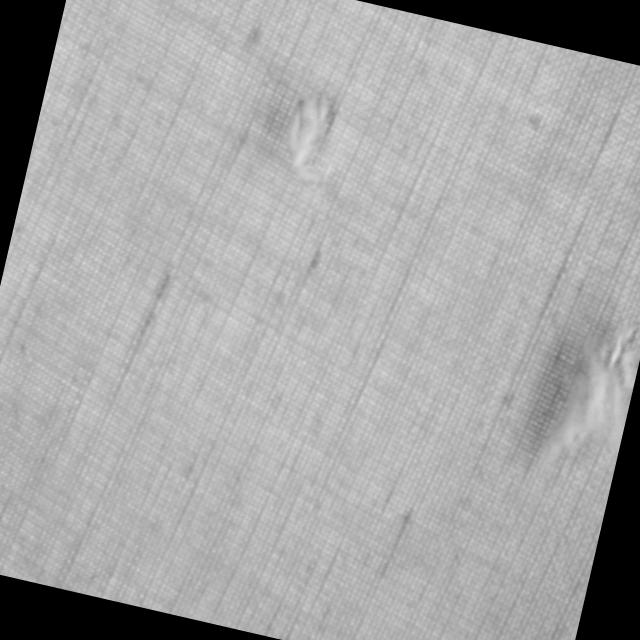objects: (532, 302, 640, 473), (270, 80, 354, 193)
